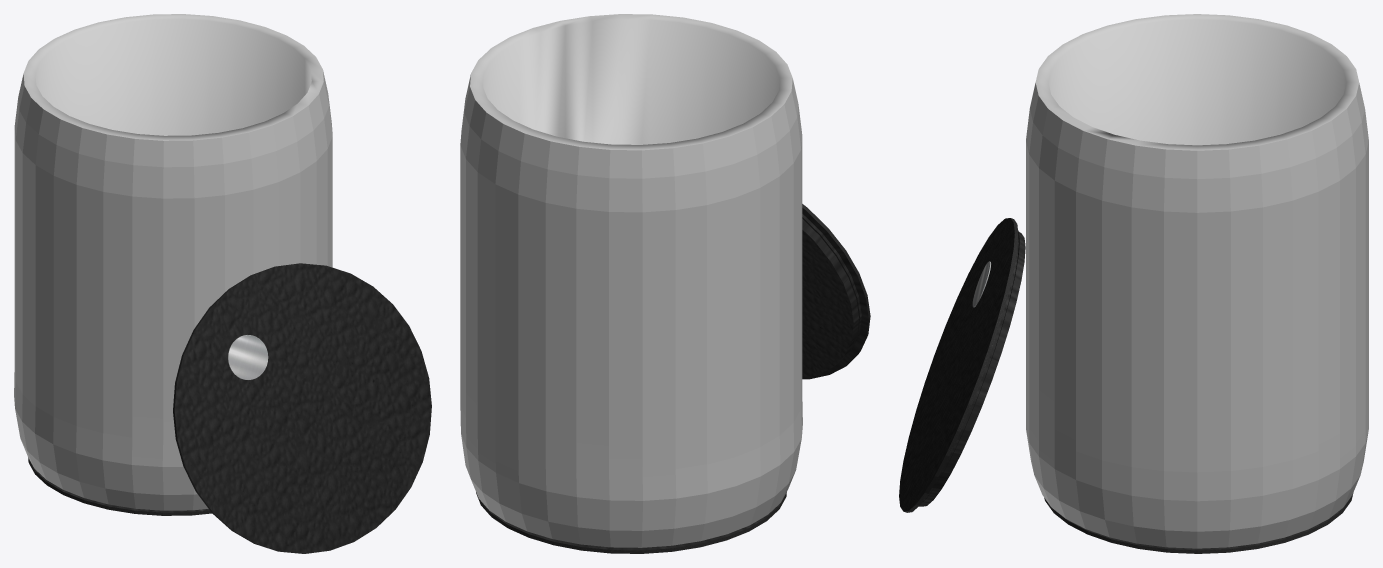
The model's file is BarrelWithOneLid(Plastic).fbx.
The picture shows the model from 3 angles, left to right: view 1: azimuth 30°, elevation 25°; view 2: azimuth 150°, elevation 25°; view 3: azimuth 270°, elevation 25°; orthographic projection. The views are drawn at different scales.
Parts seen in each view (by area): view 1: PlasticBarrel(withoutLid); view 2: PlasticBarrel(withoutLid); view 3: PlasticBarrel(withoutLid).
Part boxes in pixels (x1=…): PlasticBarrel(withoutLid): x1=14, y1=14, x2=431, y2=553; PlasticBarrel(withoutLid): x1=460, y1=14, x2=870, y2=553; PlasticBarrel(withoutLid): x1=899, y1=14, x2=1368, y2=553.
Bounding box in the file's own units: 449 × 573 × 601.
